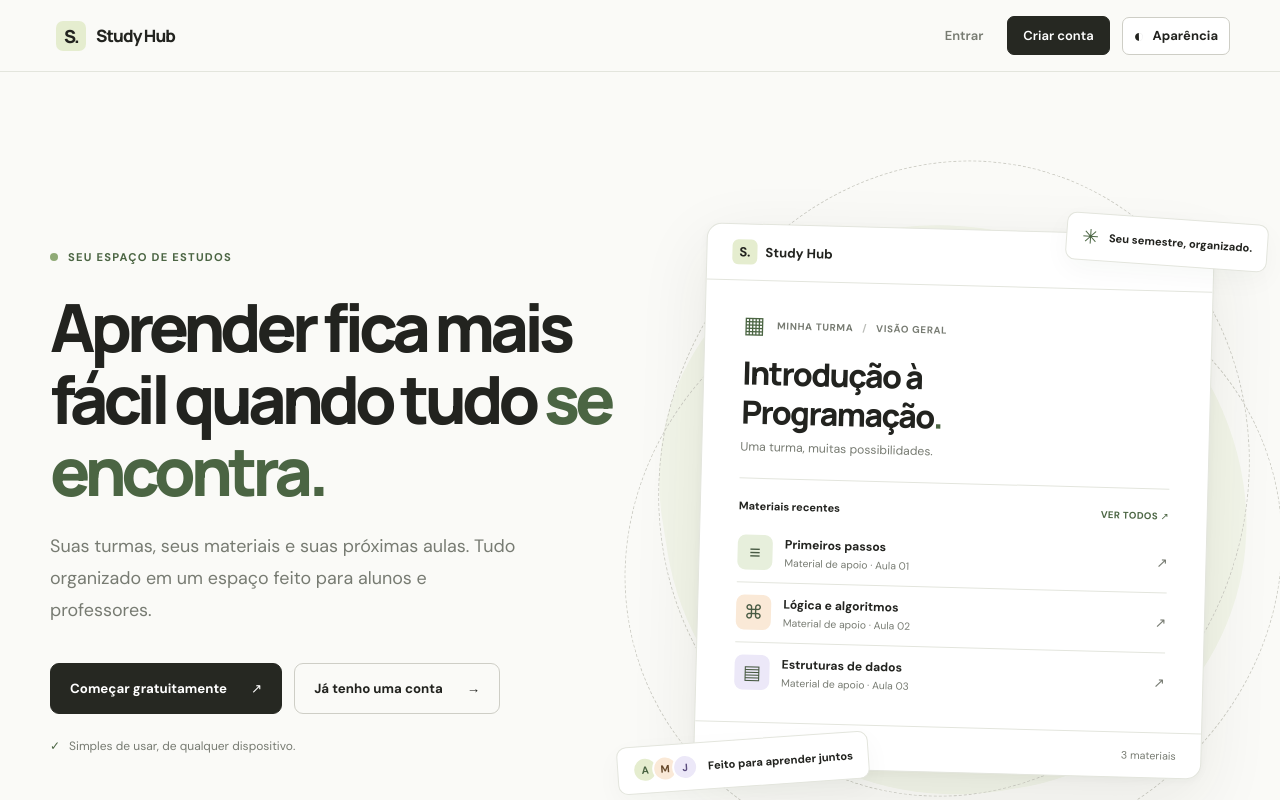
it: Study Hub › mostra o campo de área de ensino para professor
Step 1. Click the button with class "dark" → (166, 688), box [50, 663, 282, 714]
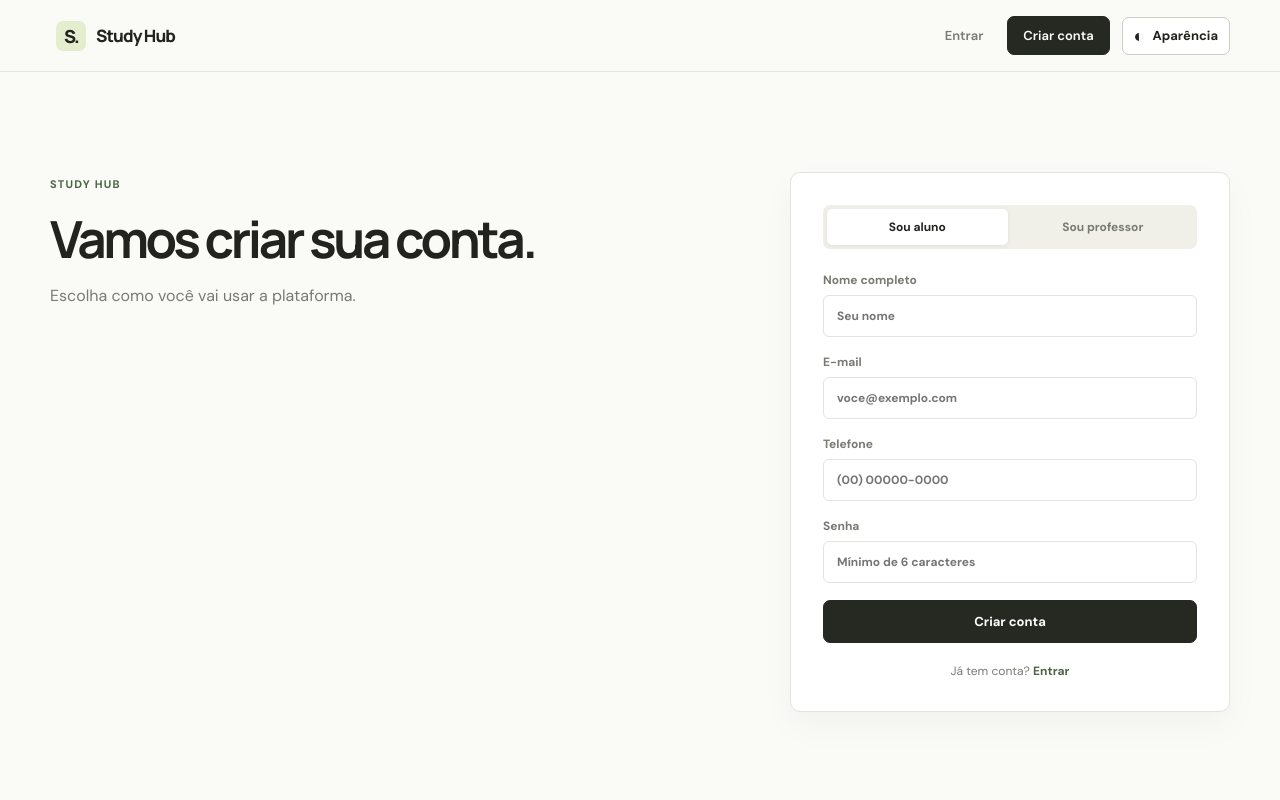
Step 2. Click the button "Sou professor" → (1103, 227), box [1012, 209, 1193, 245]
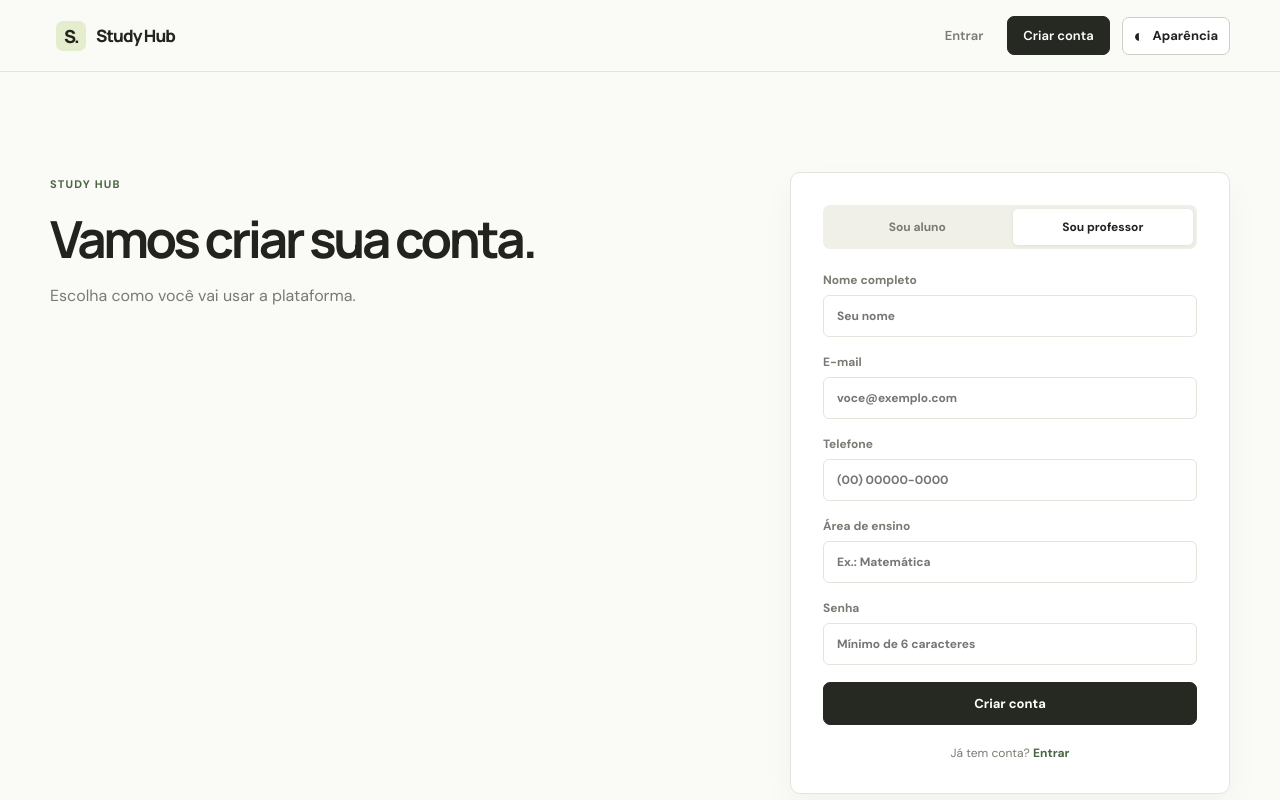
Check: the field with placeholder "Ex.: Matemática" is shown, box [823, 541, 1197, 583]
